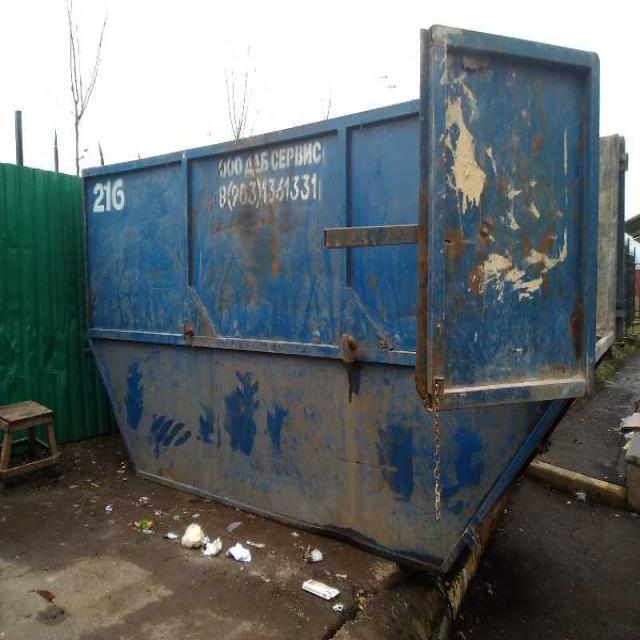Dumpster: (80, 23, 627, 579)
